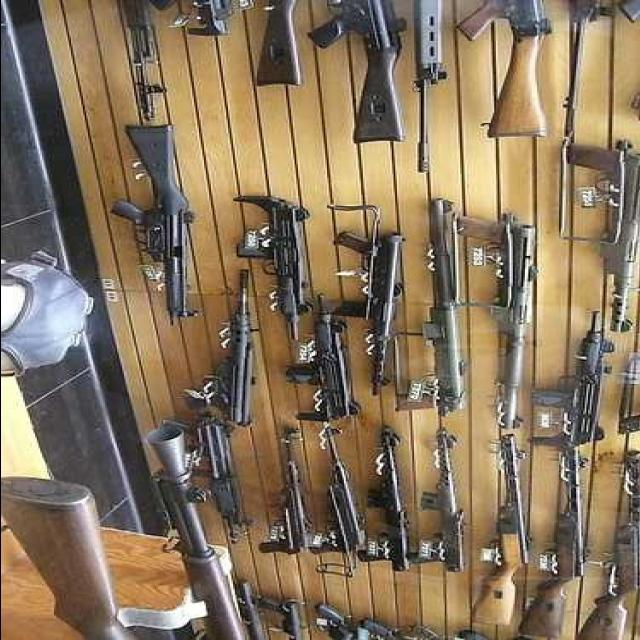heavyweapon: (81, 109, 209, 327), (450, 201, 549, 437), (392, 187, 478, 425), (449, 438, 537, 636), (187, 256, 271, 448), (279, 299, 363, 443), (239, 201, 327, 335)
